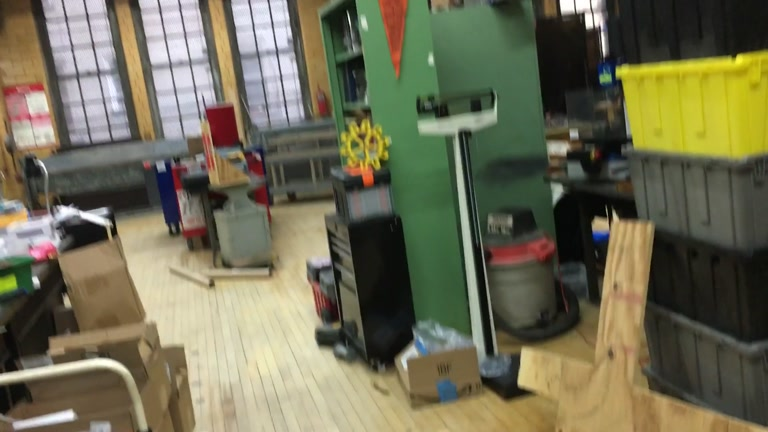gear: (339, 121, 391, 172)
